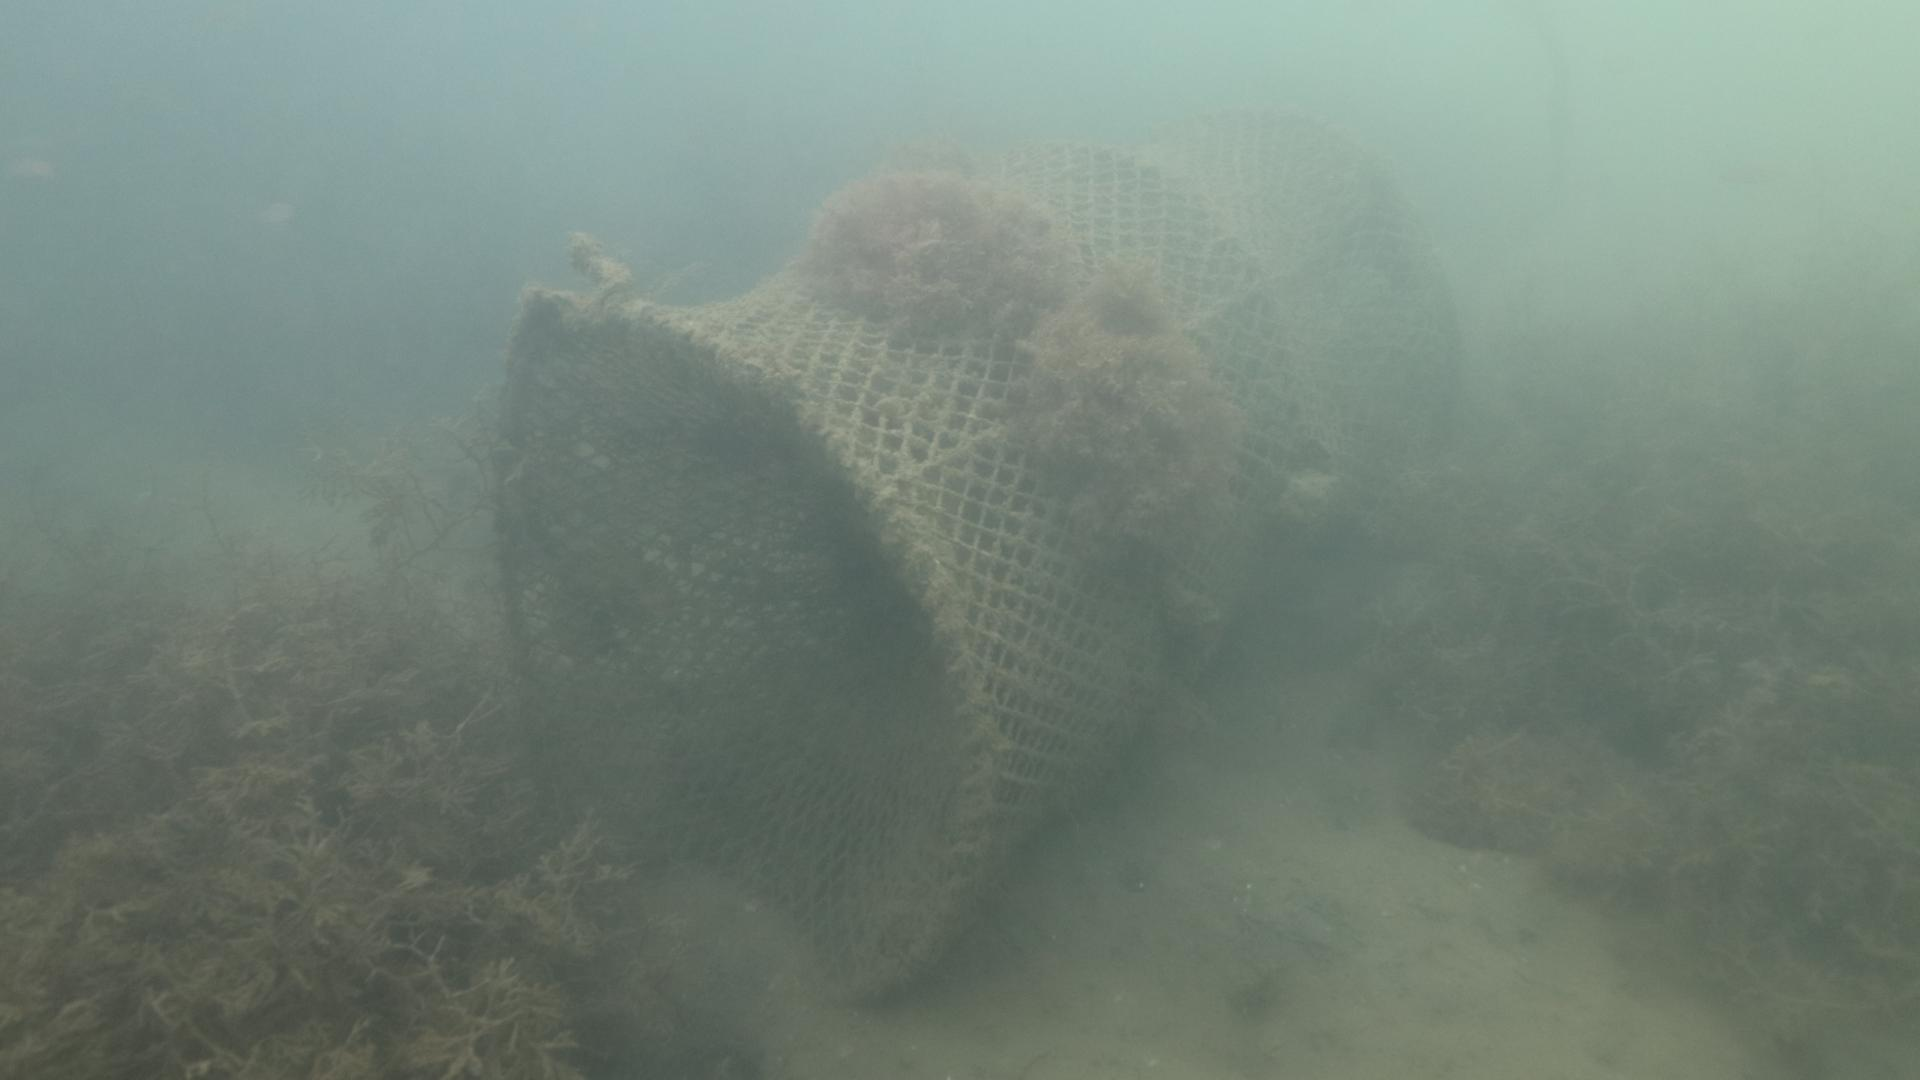spring fish trap: (489, 104, 1469, 1007)
